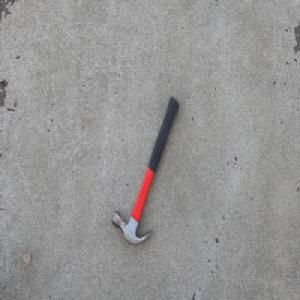Hammer: (110, 95, 179, 247)
